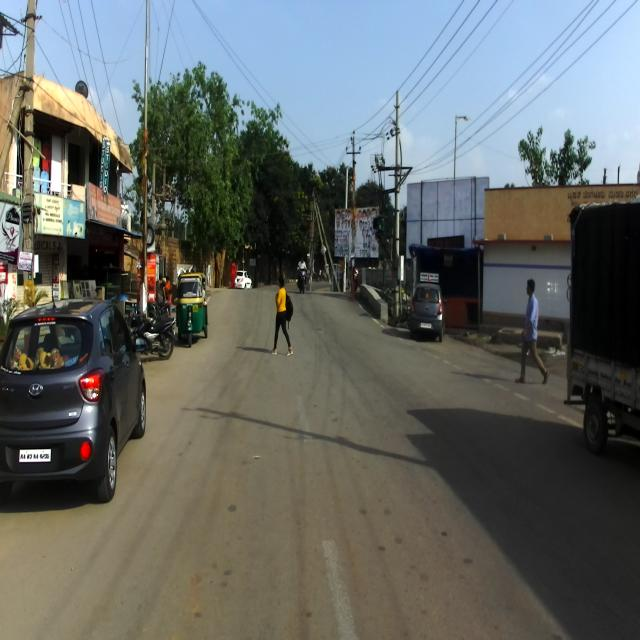auto ahead at: (176, 265, 207, 348)
car ahead at: (5, 301, 150, 497)
electric pole ahead at: (134, 0, 158, 296)
person ahead at: (515, 270, 550, 396), (274, 266, 292, 354)
